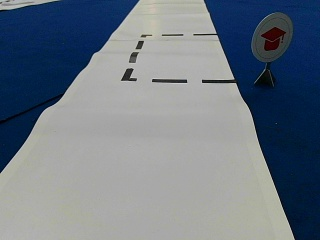school: (251, 12, 292, 61)
